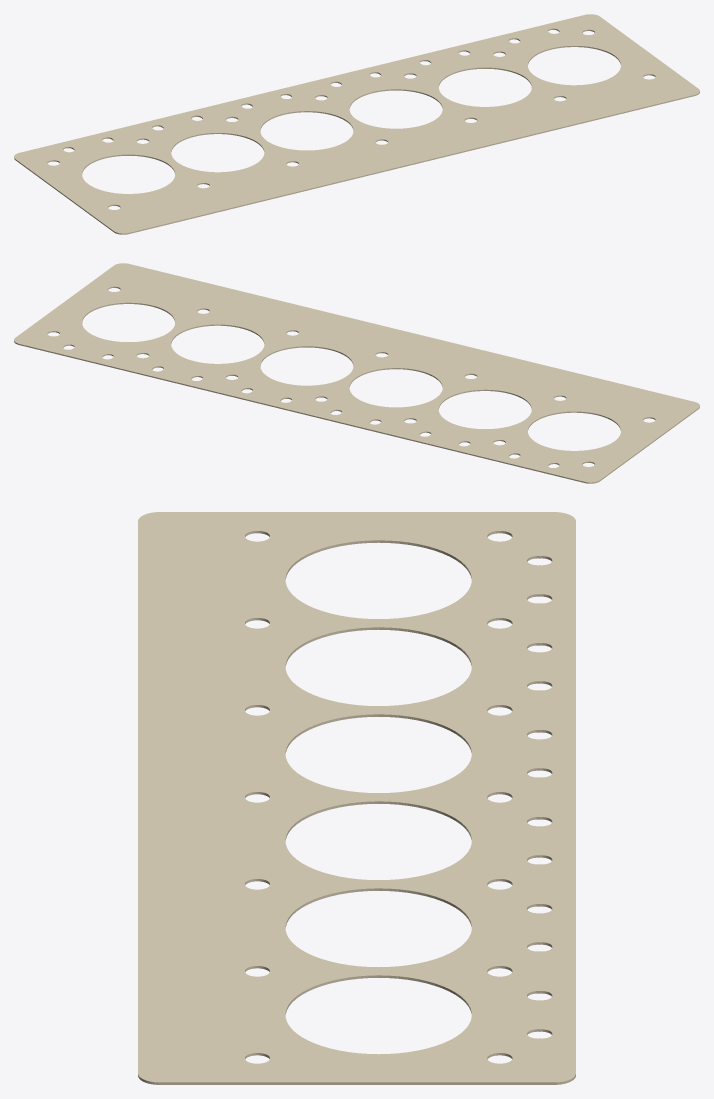
Rendered from head-gasket.glb.
3 views of the same model, one above another, from view 1: azimuth 30°, elevation 25°; view 2: azimuth 150°, elevation 25°; view 3: azimuth 270°, elevation 25° (orthographic). The views are drawn at different scales.
Visible parts, largest first — view 1: world; view 2: world; view 3: world.
Part boxes in pixels (<box>): world: <box>14,14,699,234</box>; world: <box>14,263,699,483</box>; world: <box>138,512,575,1084</box>.
Size of the model in its own units: 0.746 by 0.0015 by 0.242.
